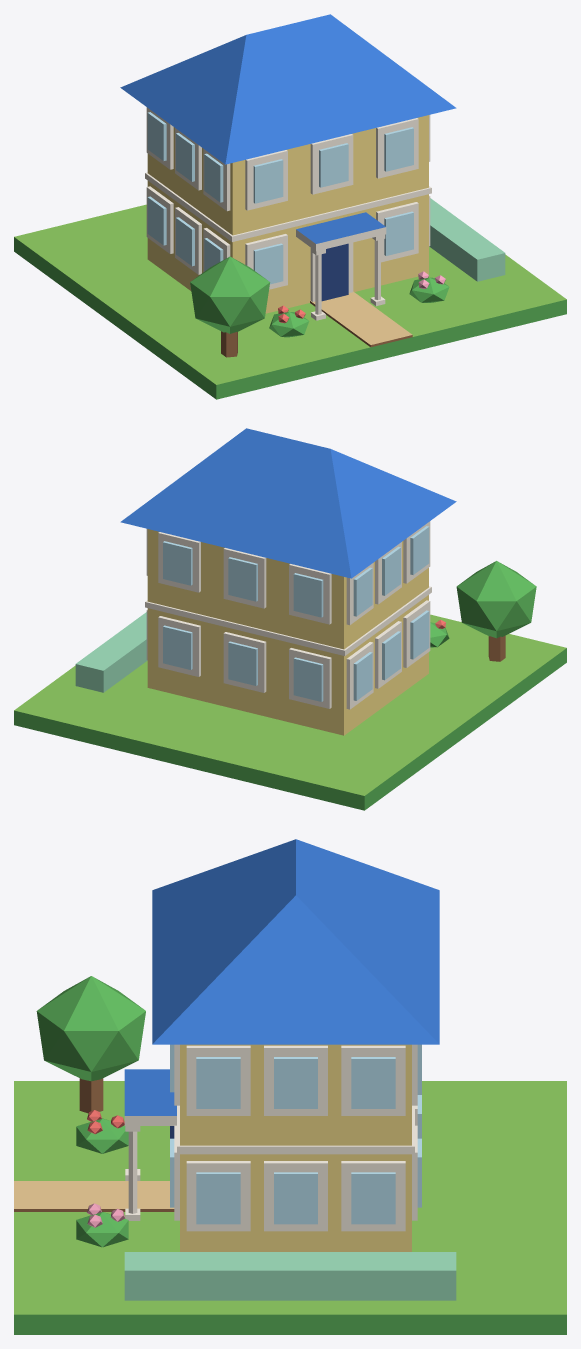
Rendered from house_two_storey.glb.
The picture shows the model from 3 angles, top to bottom: view 1: azimuth 30°, elevation 25°; view 2: azimuth 150°, elevation 25°; view 3: azimuth 270°, elevation 25°; orthographic projection. The views are drawn at different scales.
Visible parts, largest first — view 1: house_two_storey; view 2: house_two_storey; view 3: house_two_storey.
Boxes of the visible parts, bbox=[...] form: house_two_storey: bbox=[14, 14, 566, 399]; house_two_storey: bbox=[14, 428, 566, 810]; house_two_storey: bbox=[14, 839, 566, 1334].
Size of the model in its own units: 1 by 0.7 by 1.
